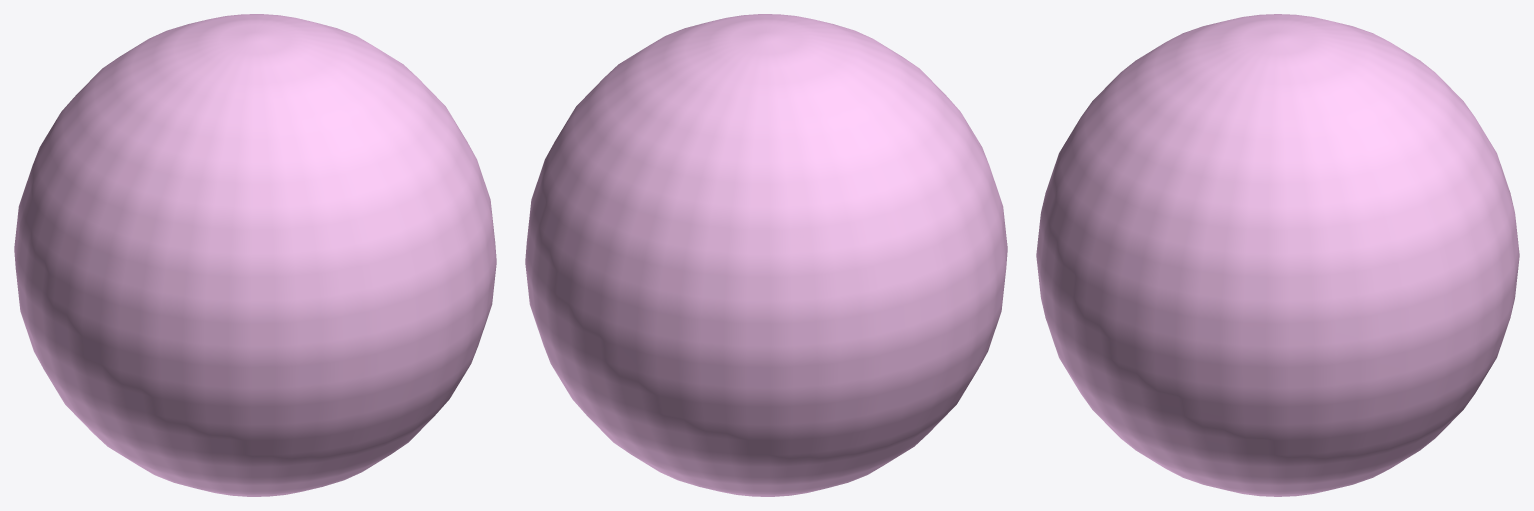
File: helloTwo.glb
The picture shows the model from 3 angles, left to right: view 1: azimuth 30°, elevation 25°; view 2: azimuth 150°, elevation 25°; view 3: azimuth 270°, elevation 25°; orthographic projection.
Parts seen in each view (by area): view 1: Sphere; view 2: Sphere; view 3: Sphere.
Boxes of the visible parts, <box> form: Sphere: <box>14,14,496,496</box>; Sphere: <box>525,14,1007,496</box>; Sphere: <box>1036,14,1519,496</box>.
Size of the model in its own units: 2 by 2 by 2.
1 material, 1 textured.
